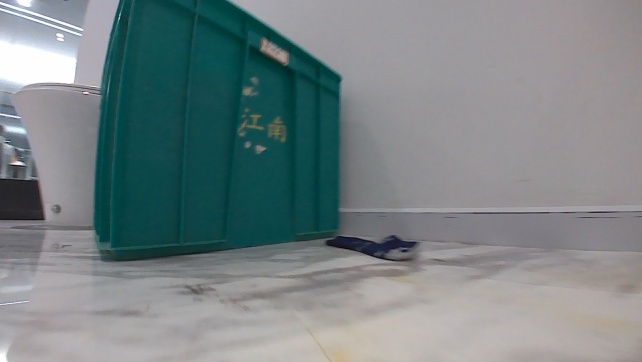socks: (324, 228, 421, 264)
toilet: (8, 77, 106, 230)
